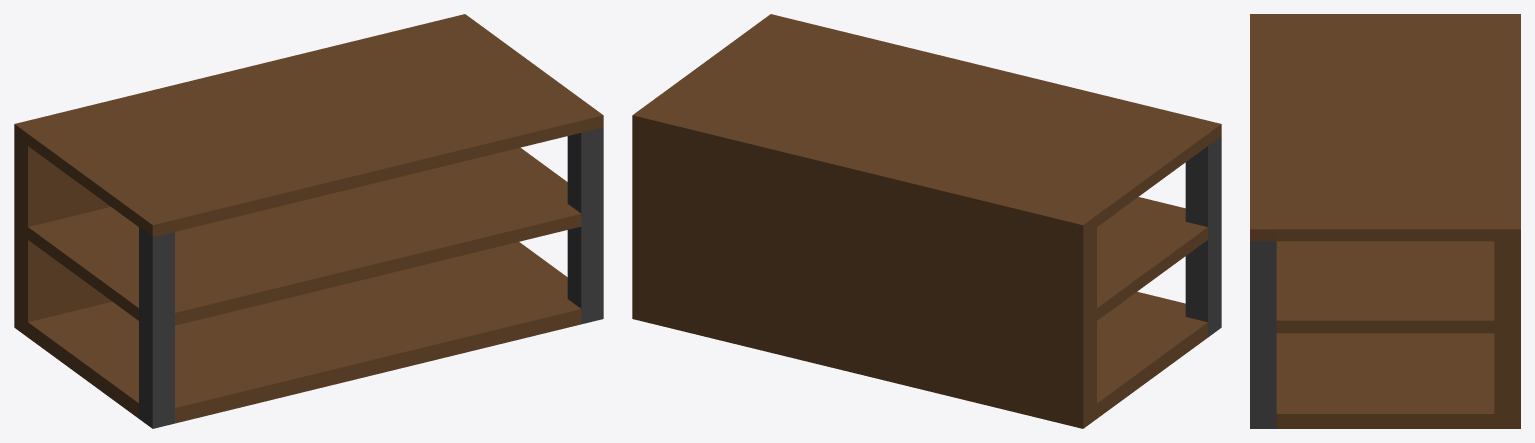
File: TVStand.fbx
3 views of the same model, side by side, from view 1: azimuth 30°, elevation 25°; view 2: azimuth 150°, elevation 25°; view 3: azimuth 270°, elevation 25° (orthographic). The views are drawn at different scales.
Visible parts, largest first — view 1: TVStand; view 2: TVStand; view 3: TVStand.
Part boxes in pixels (x1,y1,x2,y2): TVStand: [14, 14, 603, 428]; TVStand: [632, 14, 1221, 428]; TVStand: [1250, 14, 1520, 428].
Size of the model in its own units: 1.54 by 0.6667 by 0.8205.
